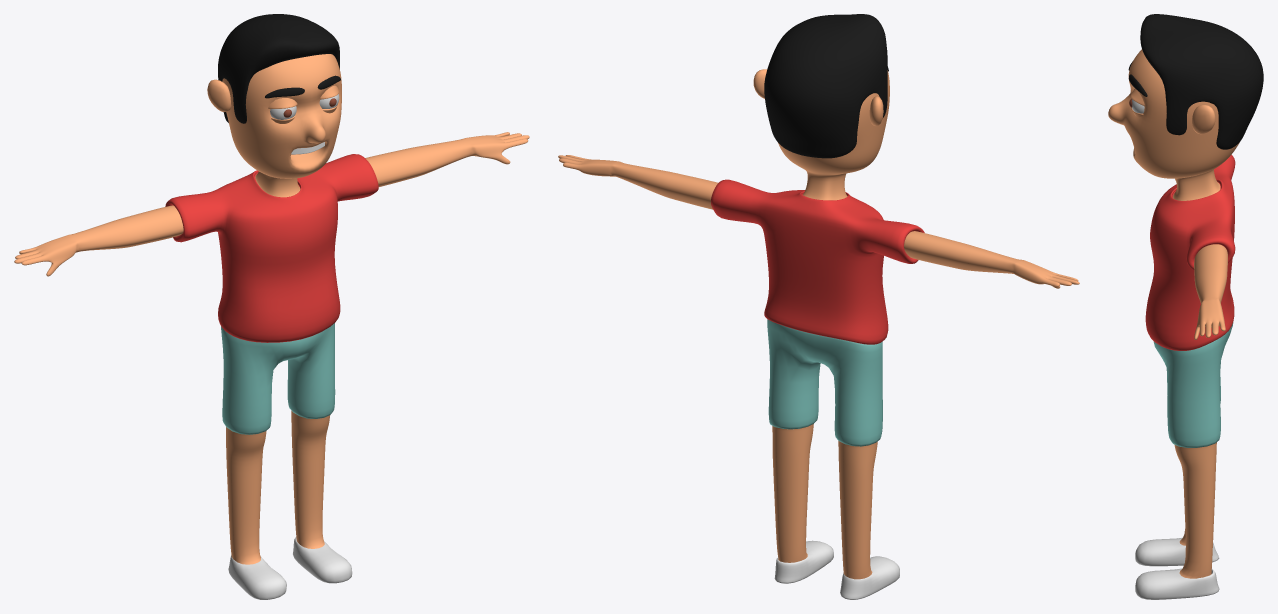
Rendered from character_1.fbx.
The picture shows the model from 3 angles, left to right: view 1: azimuth 30°, elevation 25°; view 2: azimuth 150°, elevation 25°; view 3: azimuth 270°, elevation 25°; orthographic projection.
Visible parts, largest first — view 1: body; view 2: body; view 3: body, ears.
Part boxes in pixels (bbox=[...]): body: bbox=[14, 14, 529, 599]; body: bbox=[558, 14, 1079, 599]; body: bbox=[1108, 14, 1263, 599]; ears: bbox=[1192, 105, 1215, 134].
Bounding box in the file's own units: 172 × 176 × 45.
